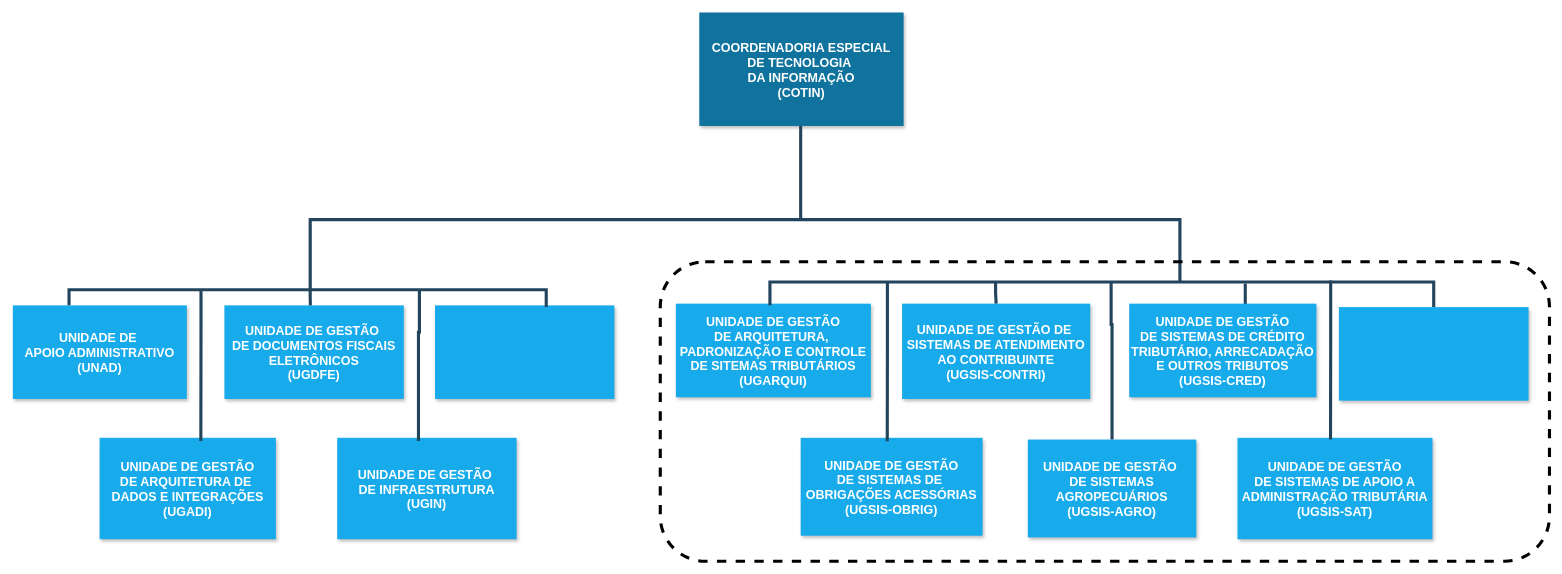
Some shapes in this 1562 by 574 pixel diagram are drawn without their labels. The shapes that lost their labels are listed below. From the top down, each one's centre as x and y in pixels, then its label:
At pixel 525 353: "UNIDADE DE GESTÃO DE DADOS ANALÍTICOS TRIBIUTÁRIOS (UGDAT)".
At pixel 1434 355: "UNIDADE DE GESTÃO DE SISTEMAS DE FISCALIZAÇÃO E CONTENCIOSO (UGSIS-FISC)".
